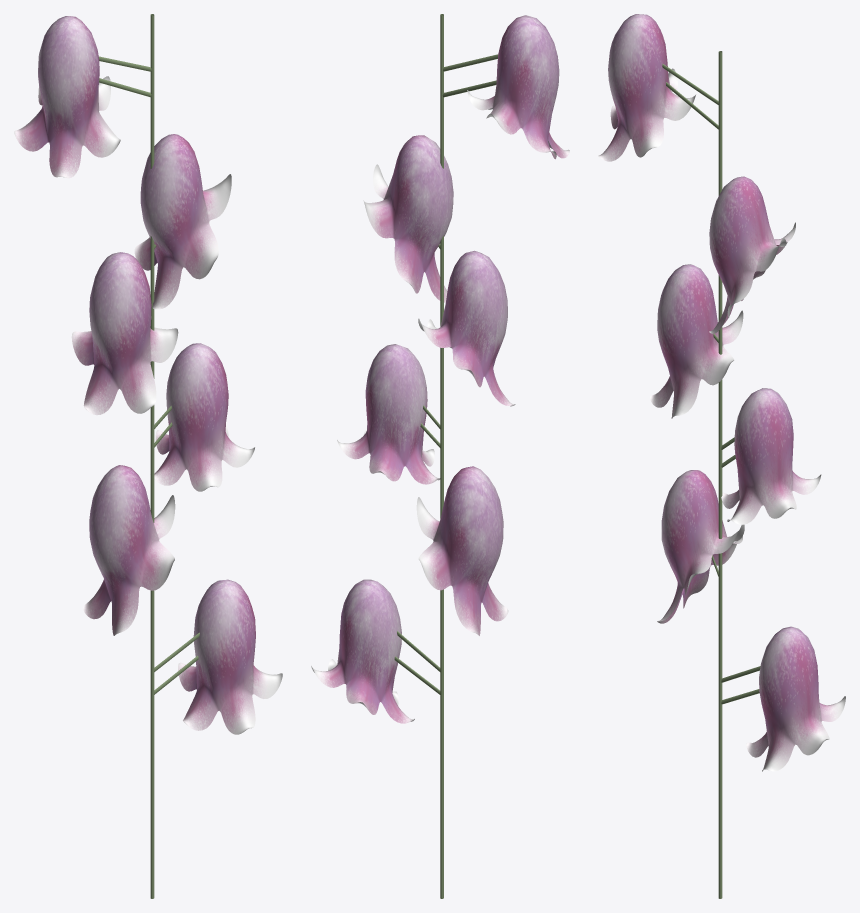
The model's file is lily-of-the-valley.glb.
3 renders of one model, left to right at view 1: azimuth 30°, elevation 25°; view 2: azimuth 150°, elevation 25°; view 3: azimuth 330°, elevation 25°, orthographic. The views are drawn at different scales.
Parts seen in each view (by area): view 1: Object_6 (×2); view 2: Object_6 (×2); view 3: Object_6 (×2).
Boxes of the visible parts, x1,y1,x2,y2 form: Object_6 (×2): (14, 14, 282, 898); Object_6 (×2): (311, 14, 569, 898); Object_6 (×2): (598, 14, 845, 898).
Size of the model in its own units: 0.2857 by 1 by 0.1124.
Materials: 2 (1 with a texture image).
